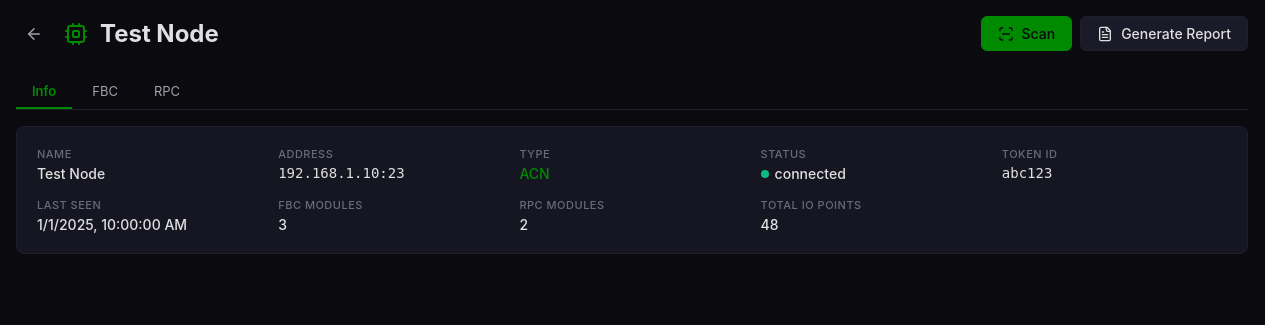
Scenario: NodeDetail › shows scan result after successful scan
Expected: the heading "Test Node" is shown, [100, 19, 219, 48]
Click the button "Scan" at (1026, 34), box [980, 16, 1072, 51]
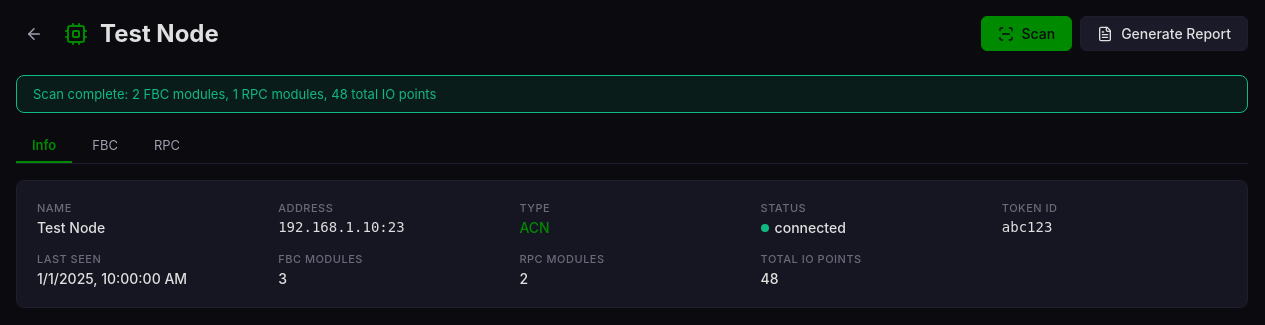
Result: the text "Scan complete" is shown at [33, 86, 436, 102]
